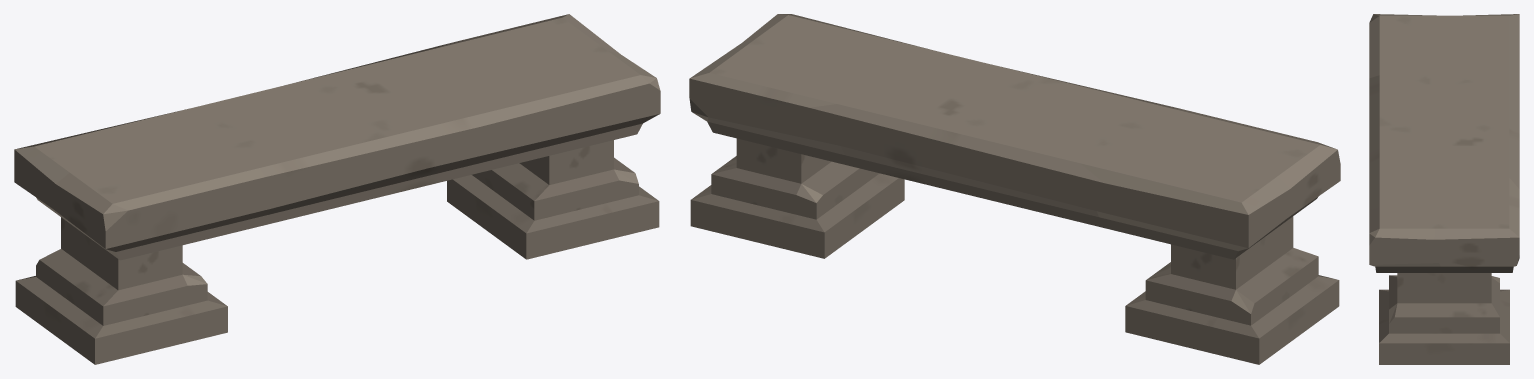
The model's file is forge_bench.gltf.
The picture shows the model from 3 angles, left to right: view 1: azimuth 30°, elevation 25°; view 2: azimuth 150°, elevation 25°; view 3: azimuth 270°, elevation 25°; orthographic projection. The views are drawn at different scales.
Visible parts, largest first — view 1: forge_bench; view 2: forge_bench; view 3: forge_bench.
Boxes of the visible parts, box(x1,y1,x2,y2) form: forge_bench: box(14, 14, 660, 364); forge_bench: box(689, 14, 1340, 364); forge_bench: box(1369, 14, 1519, 364).
Size of the model in its own units: 1.58 by 0.4191 by 0.4431.
Materials: 1 (1 with a texture image).
